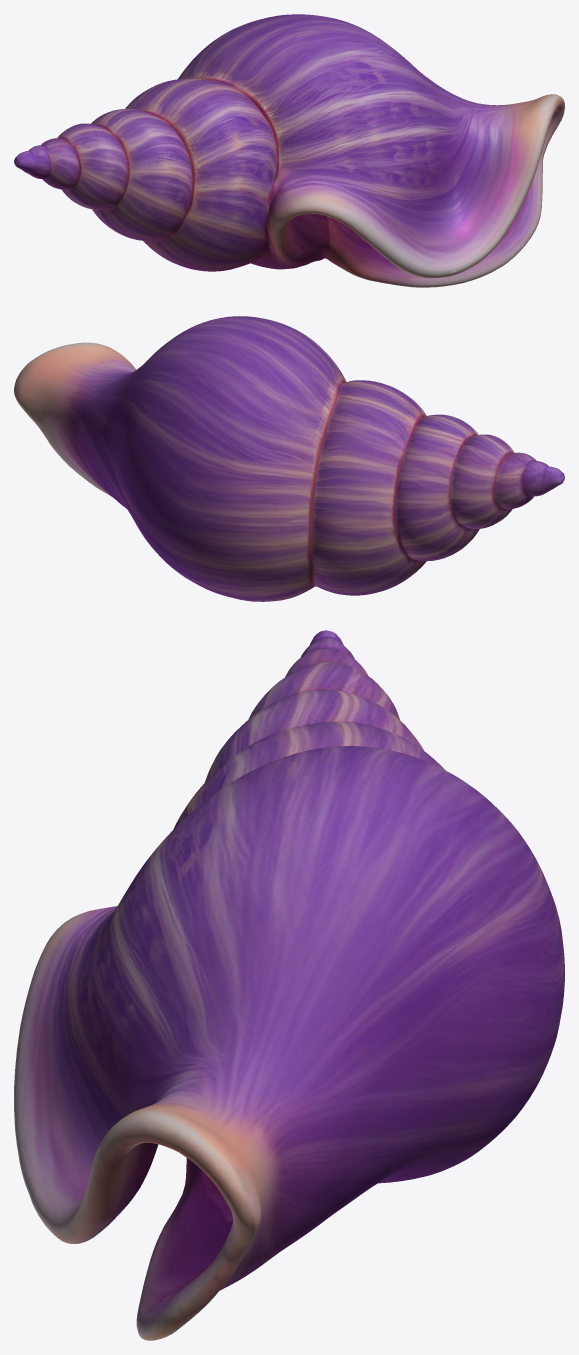
The model's file is shell.glb.
The picture shows the model from 3 angles, top to bottom: view 1: azimuth 30°, elevation 25°; view 2: azimuth 150°, elevation 25°; view 3: azimuth 270°, elevation 25°; orthographic projection. The views are drawn at different scales.
Parts seen in each view (by area): view 1: textured; view 2: textured; view 3: textured.
Part boxes in pixels (box(x1,y1,x2,y2)): textured: box(14, 14, 564, 287); textured: box(14, 316, 564, 601); textured: box(14, 630, 564, 1340).
Size of the model in its own units: 0.58 by 0.2634 by 0.2902.
Materials: 1 (1 with a texture image).
